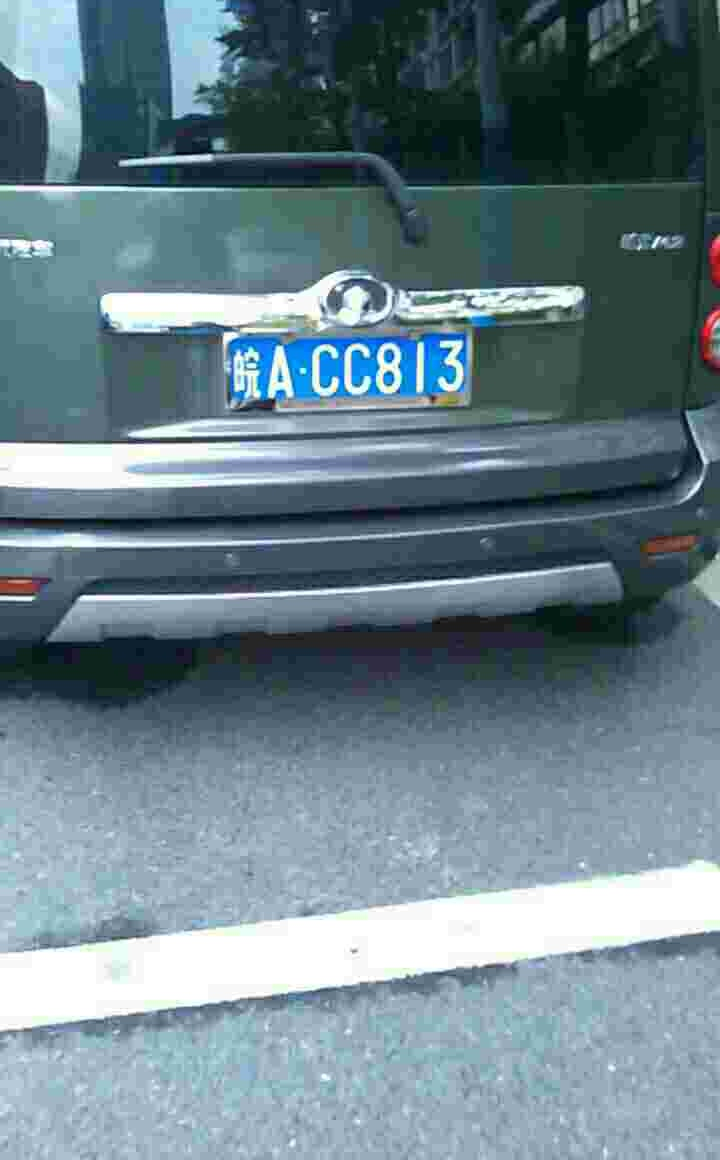car: (224, 326, 476, 399)
